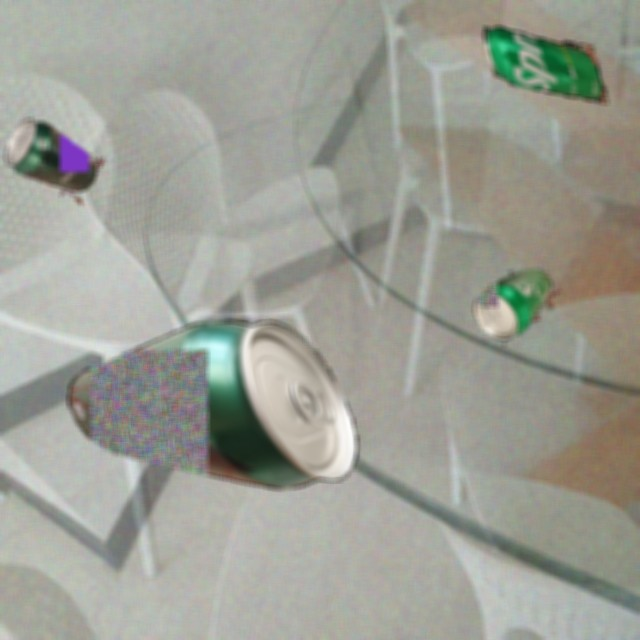schweppes: (36, 236, 382, 583), (0, 112, 107, 205)
sprite: (477, 22, 613, 104), (465, 269, 563, 349)
